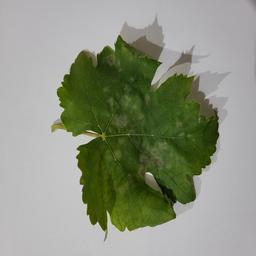Powdery-Mildew: (99, 75, 148, 112), (113, 186, 152, 227), (102, 117, 134, 163), (171, 100, 200, 149), (134, 140, 172, 174), (109, 42, 143, 68), (175, 162, 194, 198)
